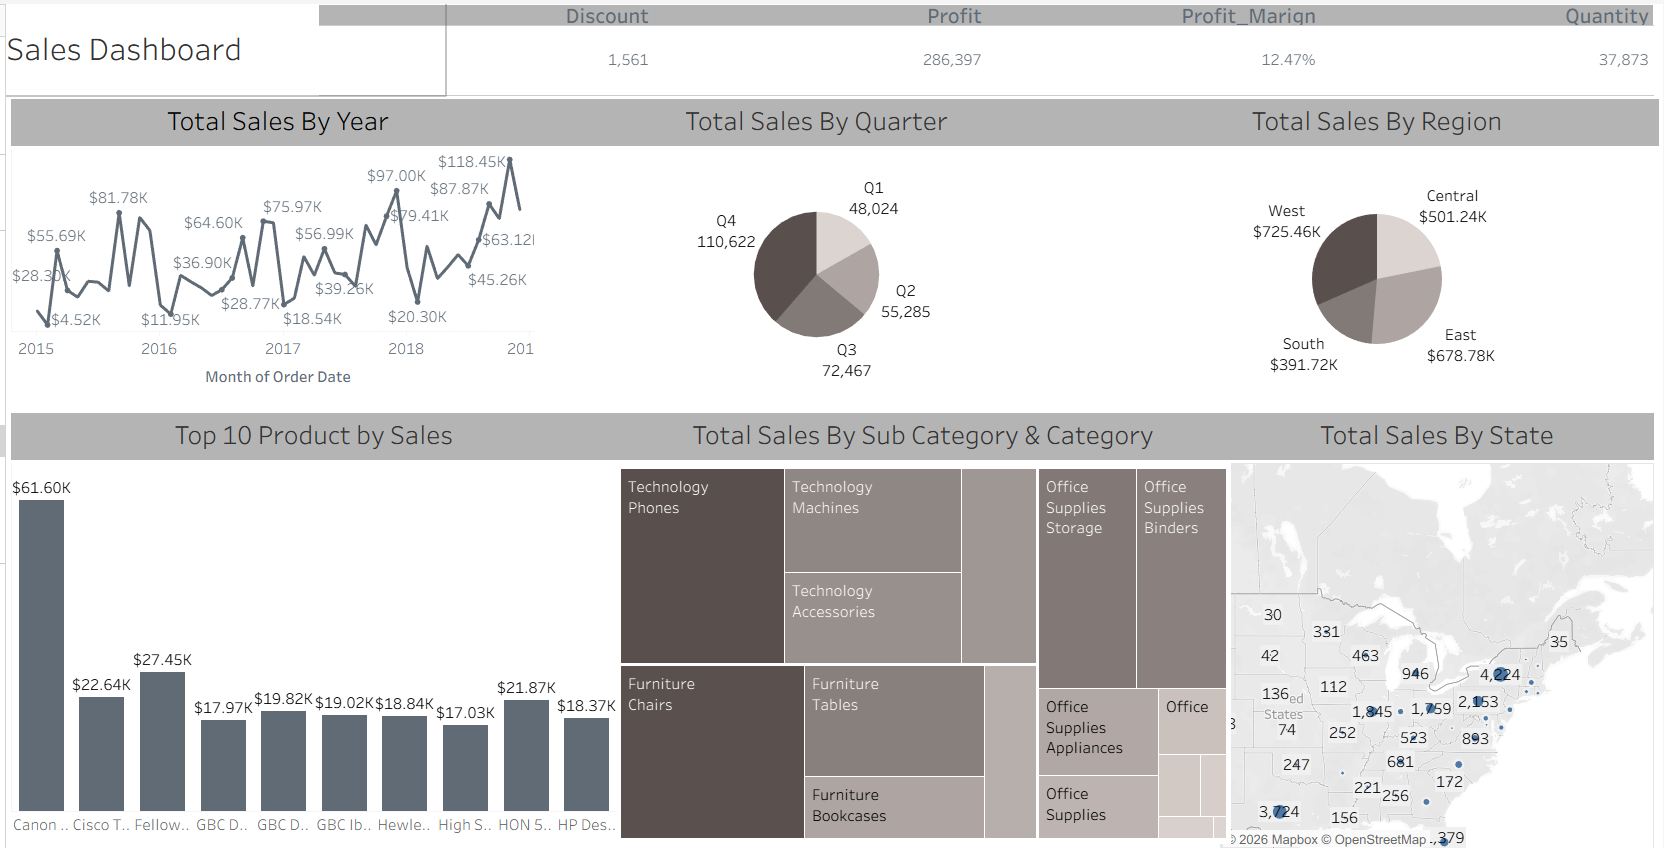

The page's visual inventory and layout, read from the dashboard file:
{"tool":"tableau","page":{"name":"Sales Dashboard","canvas":[1000,1000],"units":"permille","ordinal":0},"visuals":[{"type":"worksheet","title":"Card","mark":"Automatic","box":[188.9,1.2,805.7,106.9]},{"type":"worksheet","title":"Total Sales By Year","mark":"Automatic","rows":["Sales"],"cols":["Order Date"],"box":[3,111.6,322.3,346.7]},{"type":"worksheet","title":"Total Sales By Quarter","mark":"Pie","box":[318.7,111.6,341,353.7]},{"type":"worksheet","title":"Total Sales By Region","mark":"Pie","box":[657.2,111.6,340.4,364.3]},{"type":"worksheet","title":"Top 10 Product by Sales","mark":"Bar","rows":["Sales"],"cols":["Product Name"],"box":[3,480.6,365.7,514.7]},{"type":"worksheet","title":"Total Sales By Sub Category & Category","mark":"Automatic","box":[367.5,480.6,371.8,513.5]},{"type":"worksheet","title":"Total Sales By State","mark":"Pie","box":[732.6,480.6,261.9,513.5]}]}

Visuals, with their boxes on the dashboard's canvas, which has no fixed pixel size, in thousandths of its width and height (x1, y1, x2, y2). These are canvas units, not pixel positions in the 1664x848 screenshot, which may show the page scaled, cropped or inside an application window:
"Card" worksheet: [x1=189, y1=1, x2=995, y2=108]
"Total Sales By Year" worksheet: [x1=3, y1=112, x2=325, y2=458]
"Total Sales By Quarter" worksheet (Pie marks): [x1=319, y1=112, x2=660, y2=465]
"Total Sales By Region" worksheet (Pie marks): [x1=657, y1=112, x2=998, y2=476]
"Top 10 Product by Sales" worksheet (Bar marks): [x1=3, y1=481, x2=369, y2=995]
"Total Sales By Sub Category & Category" worksheet: [x1=368, y1=481, x2=739, y2=994]
"Total Sales By State" worksheet (Pie marks): [x1=733, y1=481, x2=994, y2=994]
